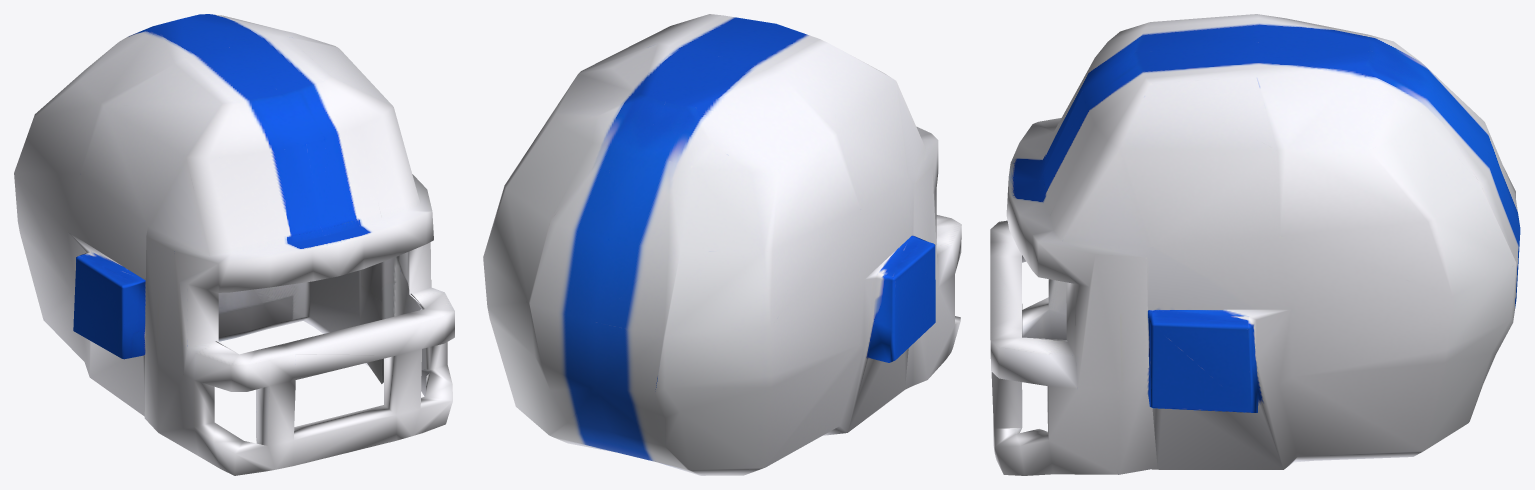
The model's file is new-base-helmet.glb.
3 renders of one model, left to right at view 1: azimuth 30°, elevation 25°; view 2: azimuth 150°, elevation 25°; view 3: azimuth 270°, elevation 25°, orthographic. The views are drawn at different scales.
Bounding box in the file's own units: 0.7661 × 0.7383 × 0.9517.
Materials: 1 (1 with a texture image).
